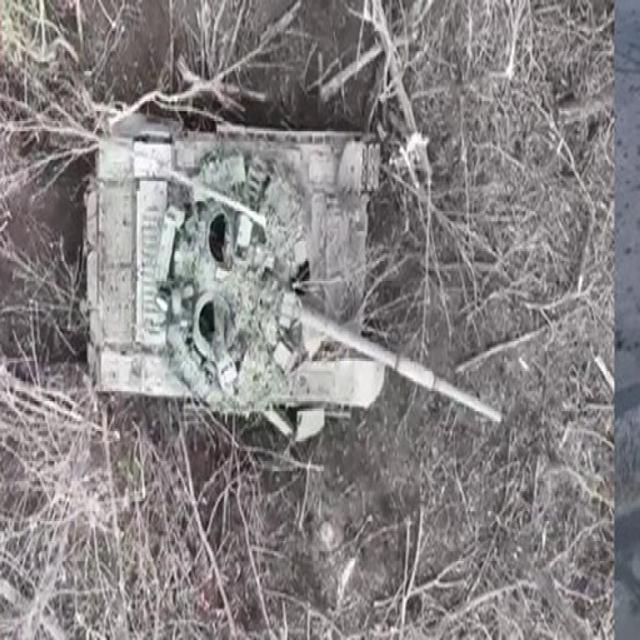TANK: (69, 89, 505, 462)
